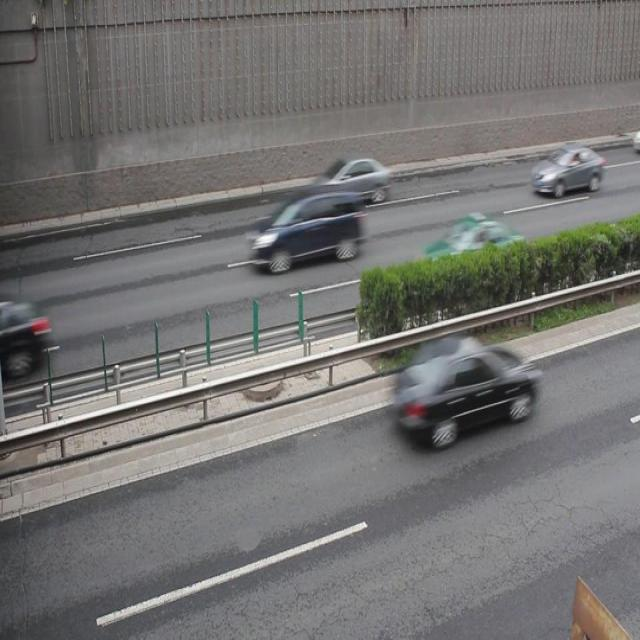car: (392, 337, 535, 449), (249, 192, 360, 273), (420, 212, 523, 276), (311, 154, 389, 205), (530, 144, 602, 196)
